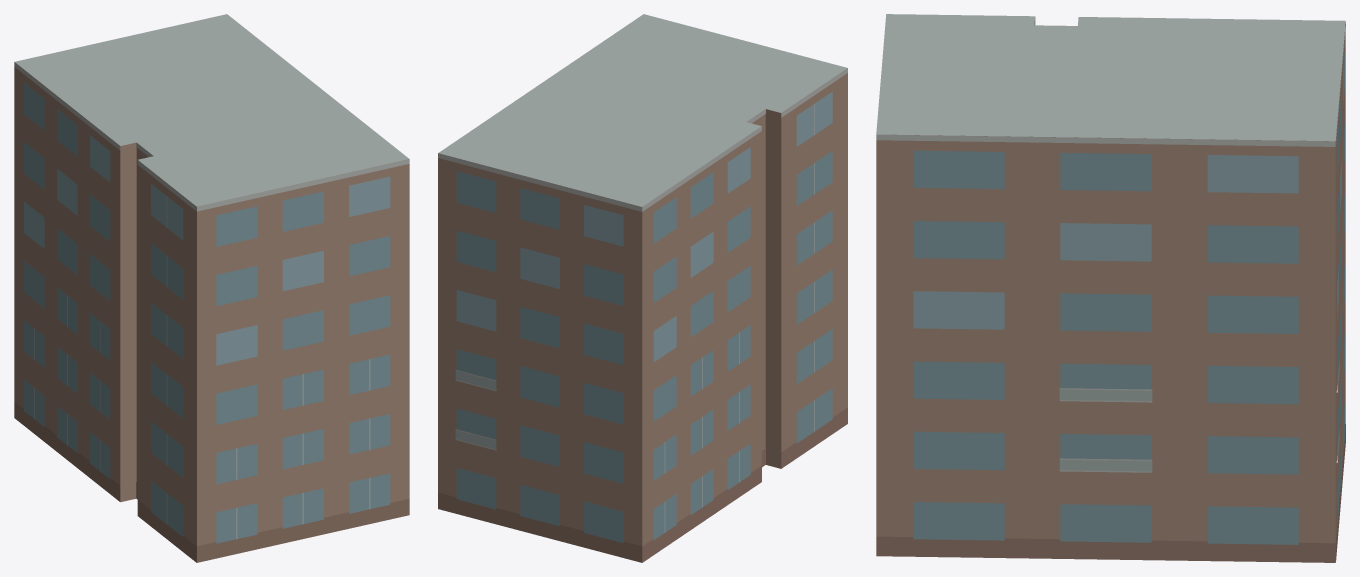
File: survey-upis-32653423.glb
3 views of the same model, side by side, from view 1: azimuth 30°, elevation 25°; view 2: azimuth 150°, elevation 25°; view 3: azimuth 270°, elevation 25° (orthographic). The views are drawn at different scales.
Parts seen in each view (by area): view 1: survey-upis-32653423.tmp; view 2: survey-upis-32653423.tmp; view 3: survey-upis-32653423.tmp.
Part boxes in pixels (x1=…): survey-upis-32653423.tmp: x1=14, y1=14, x2=409, y2=562; survey-upis-32653423.tmp: x1=438, y1=14, x2=847, y2=562; survey-upis-32653423.tmp: x1=876, y1=14, x2=1345, y2=562.
Size of the model in its own units: 11.56 by 17.85 by 18.03.
